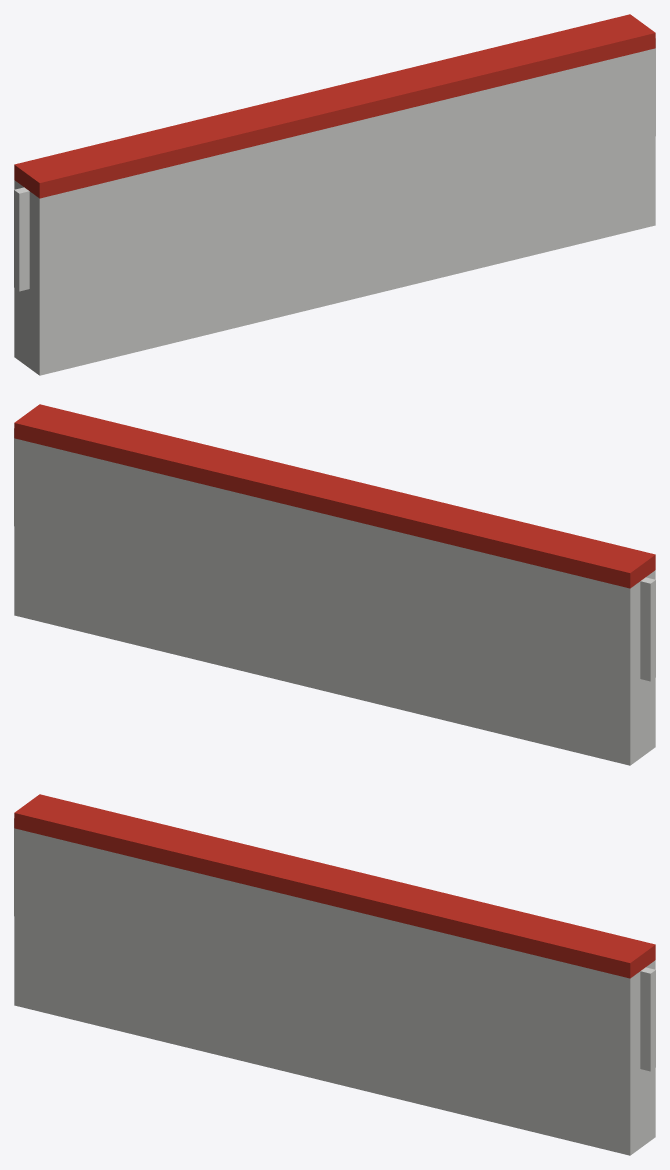
Rendered from wall.fbx.
3 renders of one model, top to bottom at view 1: azimuth 30°, elevation 25°; view 2: azimuth 150°, elevation 25°; view 3: azimuth 330°, elevation 25°, orthographic.
Visible parts, largest first — view 1: Body1, Body2; view 2: Body1, Body2; view 3: Body1, Body2.
Part boxes in pixels (left/top/right/bottom): Body1: left=14, top=38, right=655, bottom=375; Body2: left=14, top=14, right=655, bottom=198; Body1: left=14, top=428, right=655, bottom=765; Body2: left=14, top=404, right=655, bottom=588; Body1: left=14, top=818, right=655, bottom=1155; Body2: left=14, top=794, right=655, bottom=978.
Size of the model in its own units: 86.5 by 25 by 6.
